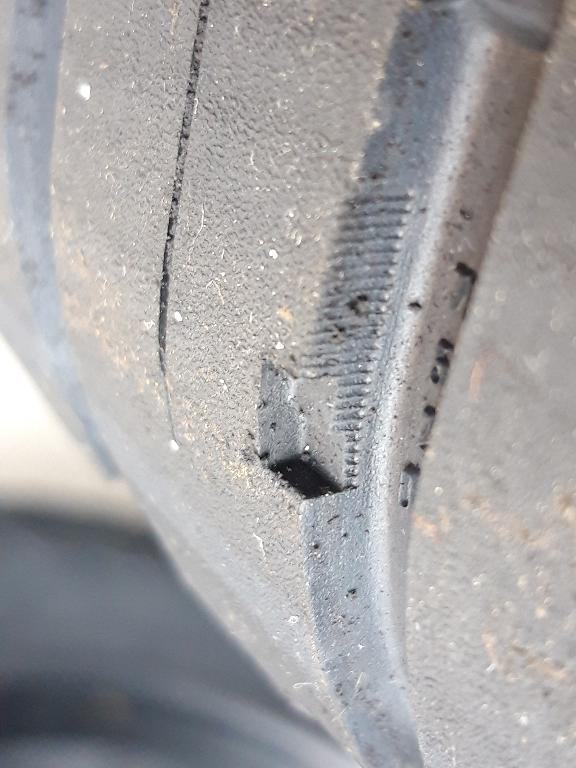temoin:50: (246, 303, 397, 511)
